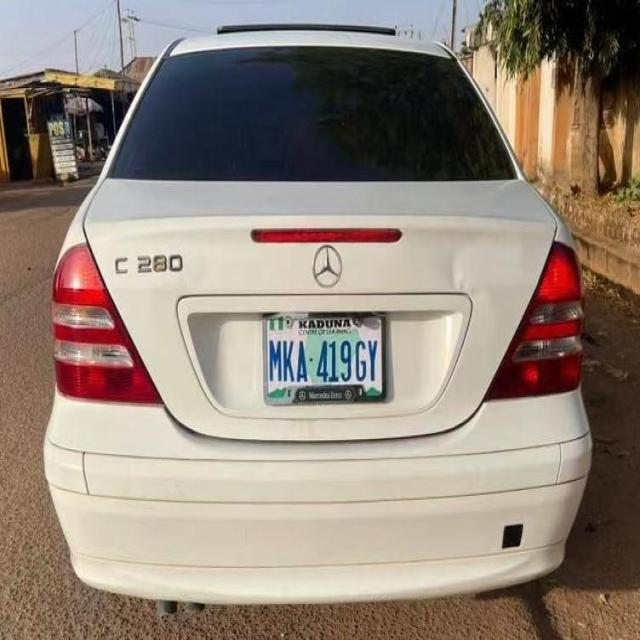Nigerian License Plate - vdataset benjamin-daria: (261, 310, 390, 404)
